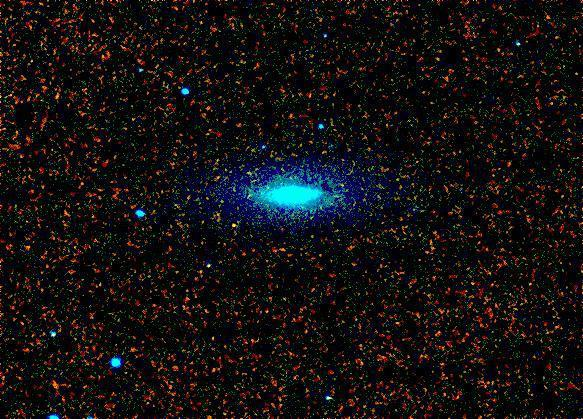star: (218, 210, 248, 240)
